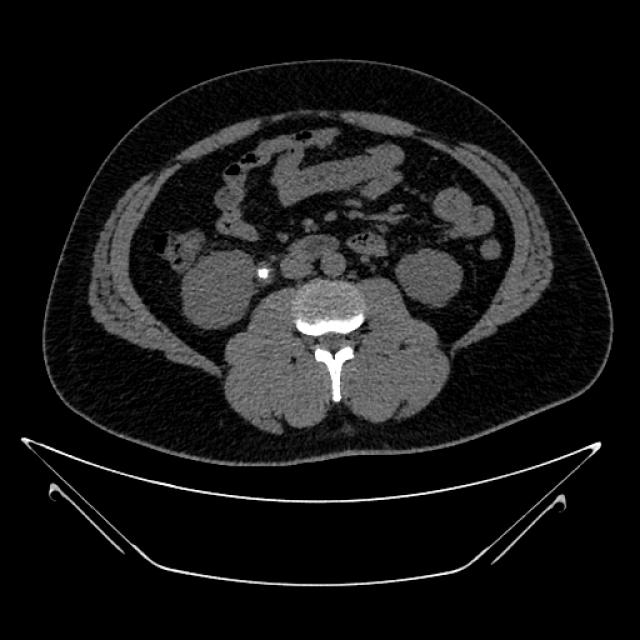kidneystone: (256, 261, 275, 286)
